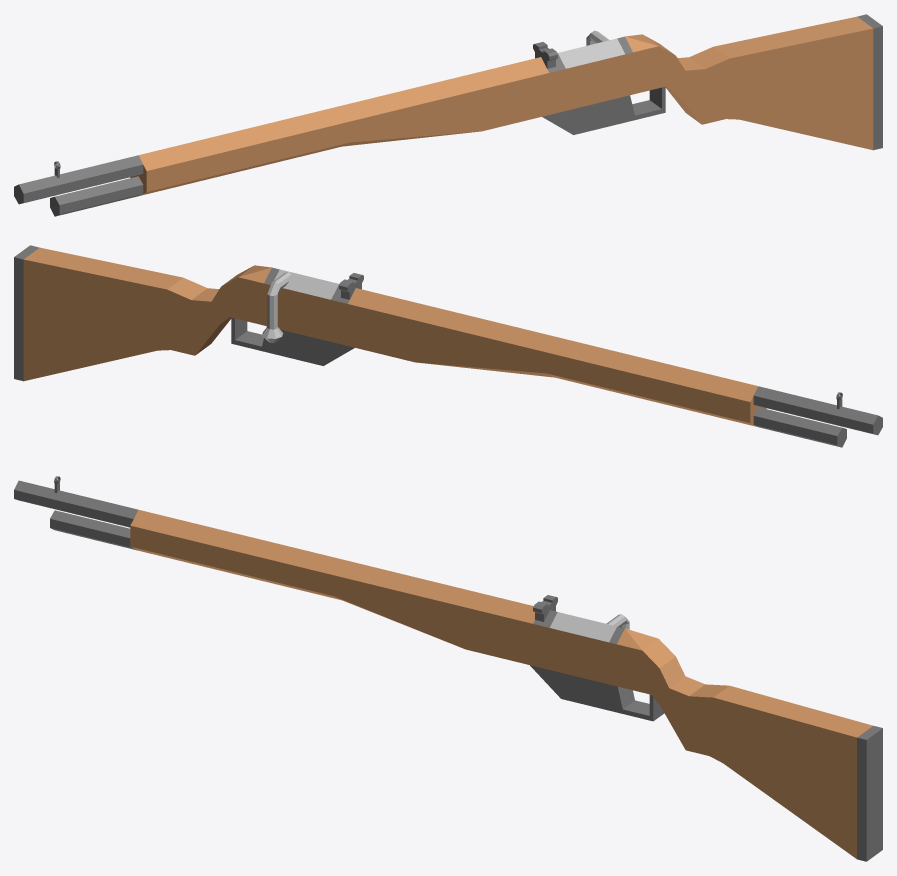
The model's file is Mosin Nagant.fbx.
3 views of the same model, one above another, from view 1: azimuth 30°, elevation 25°; view 2: azimuth 150°, elevation 25°; view 3: azimuth 330°, elevation 25° (orthographic).
Visible parts, largest first — view 1: Mosin Nagat; view 2: Mosin Nagat; view 3: Mosin Nagat.
Boxes of the visible parts, x1,y1,x2,y2 form: Mosin Nagat: (14, 14, 882, 216); Mosin Nagat: (14, 245, 882, 447); Mosin Nagat: (14, 476, 882, 861).
Size of the model in its own units: 0.8937 by 0.1794 by 0.0544.
